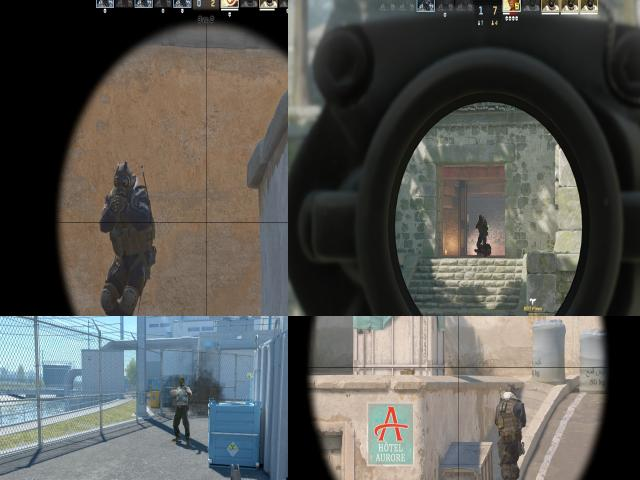CT: (107, 159, 148, 316), (499, 381, 524, 480), (474, 208, 492, 257)
CT-Head: (114, 164, 133, 191), (506, 384, 518, 397), (476, 212, 486, 224)
Dead: (476, 243, 494, 256)
T: (174, 375, 190, 441)
T-Head: (178, 376, 187, 390)
